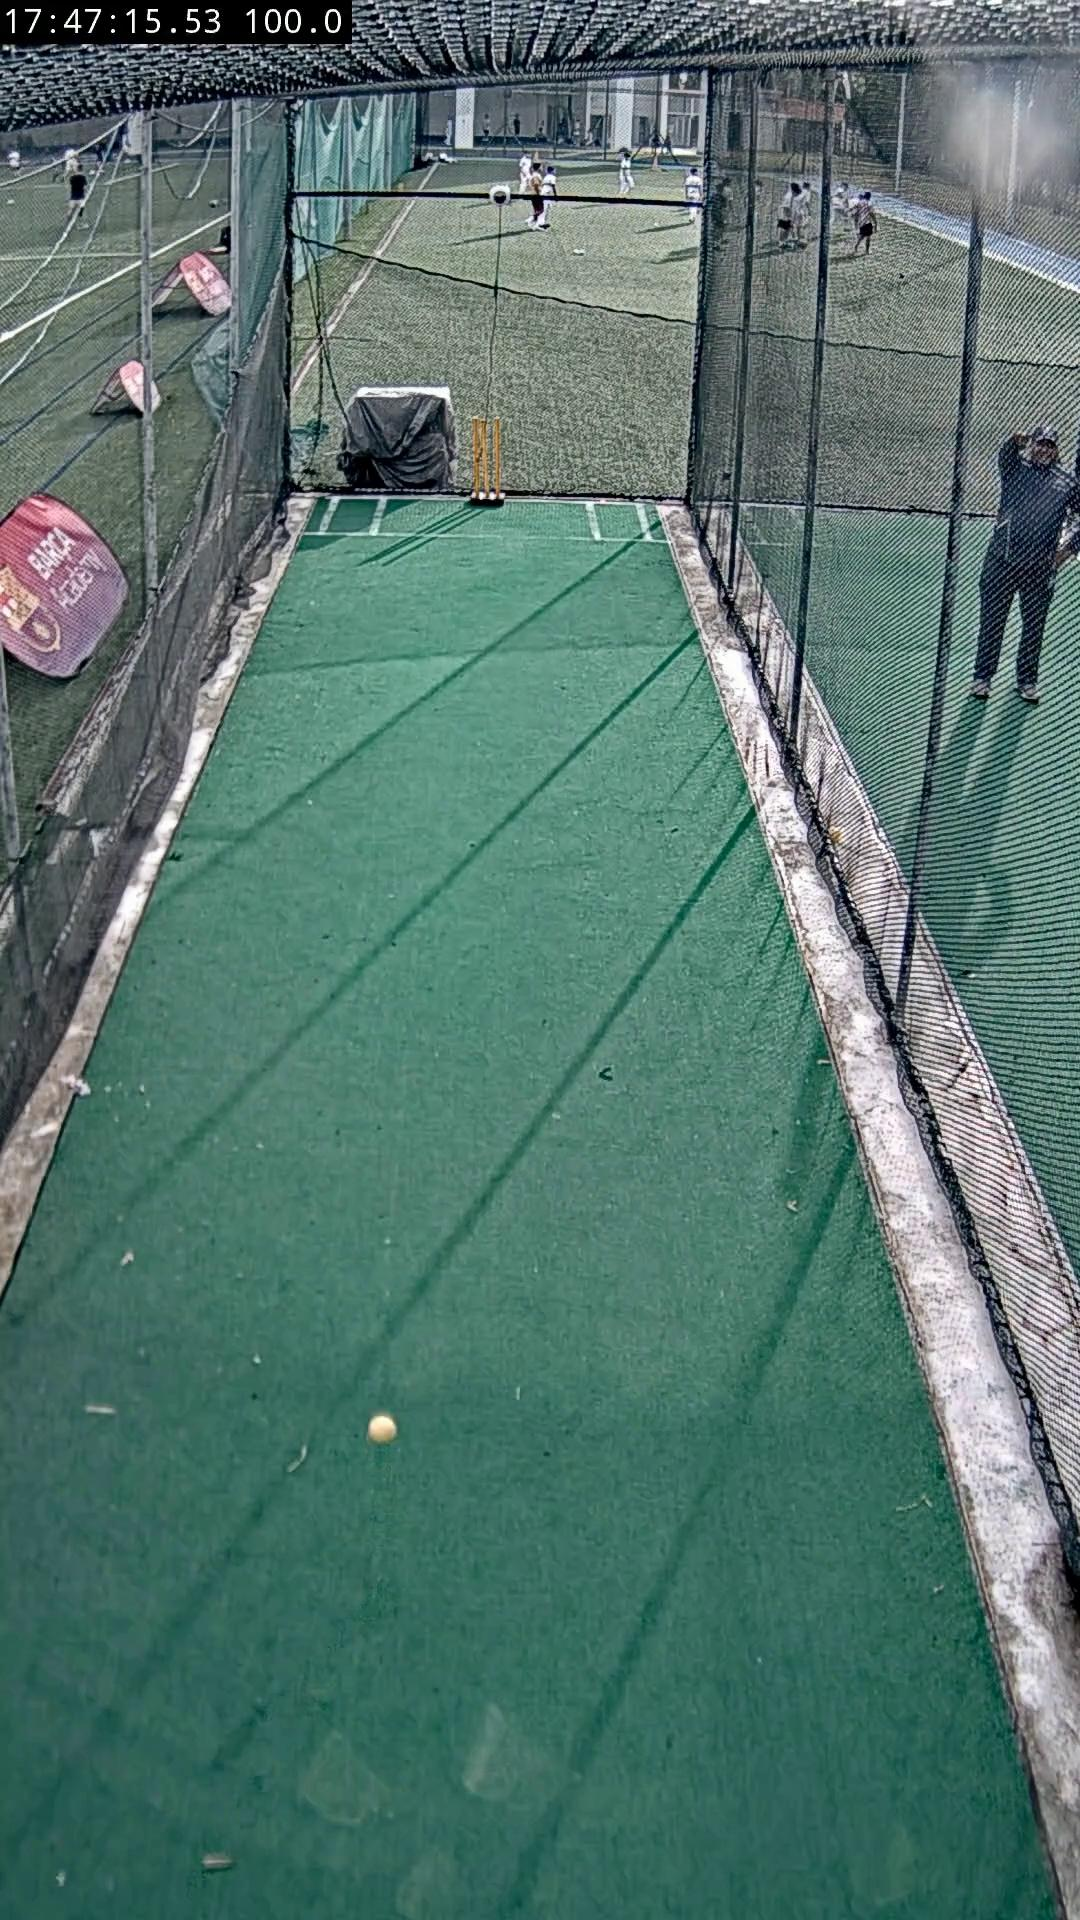ball: (368, 1414, 397, 1444)
stumps: (468, 417, 506, 506)
